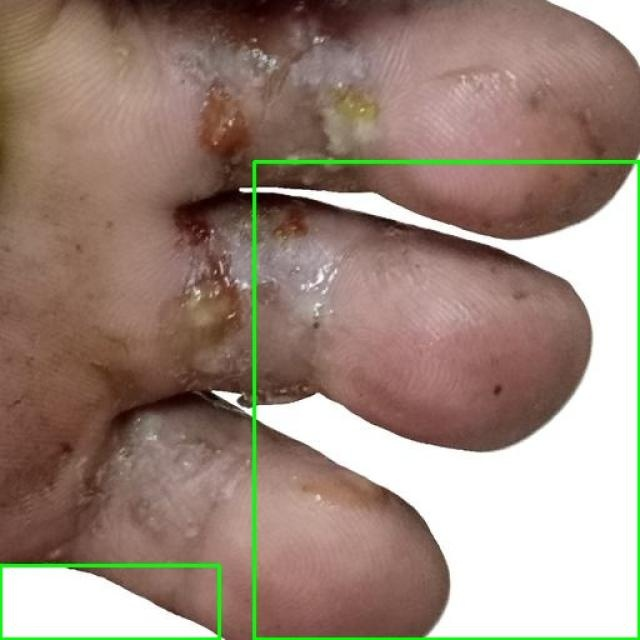Scabies: (254, 161, 639, 639), (0, 565, 219, 639)
